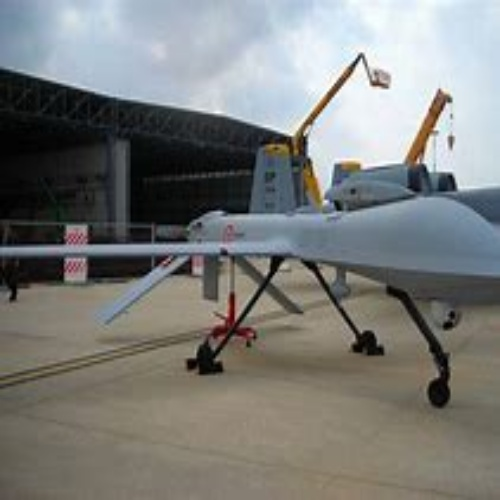uav403: (1, 143, 500, 406)
